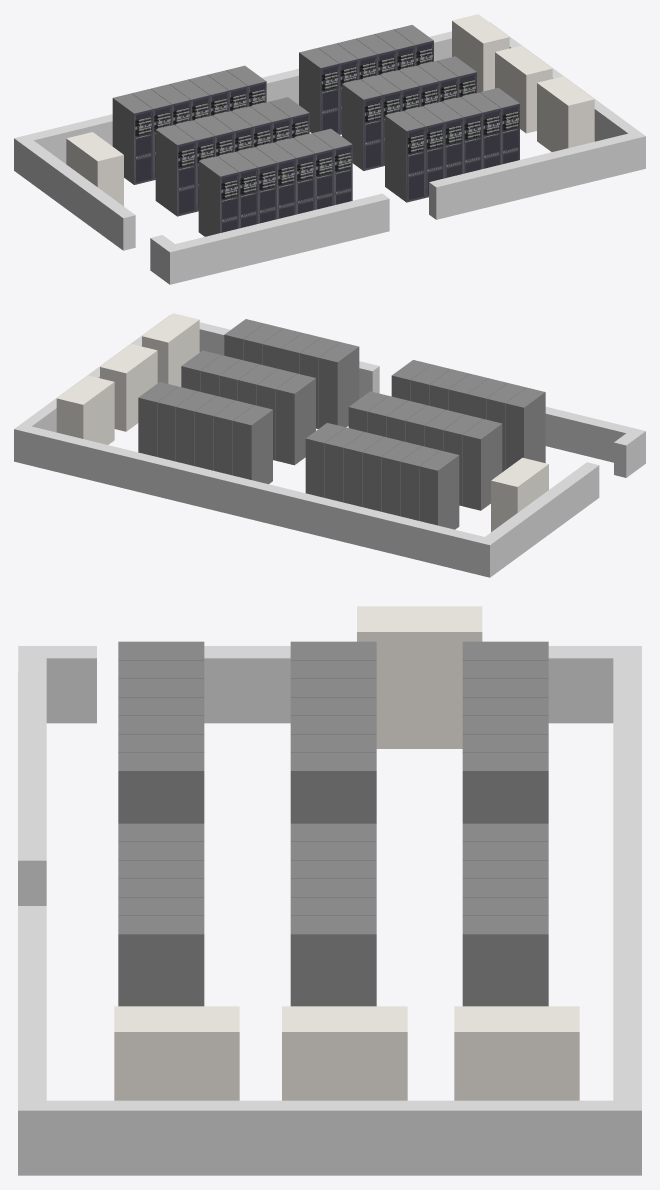
The model's file is 机房东6.gltf.
3 renders of one model, top to bottom at view 1: azimuth 30°, elevation 25°; view 2: azimuth 150°, elevation 25°; view 3: azimuth 270°, elevation 25°, orthographic. The views are drawn at different scales.
Parts seen in each view (by area): view 1: 墙, 空调2, 空调3, 空调4, 空调1, 机柜.25-机柜1, 机柜.7-机柜1, 机柜-机柜1, 机柜.18-机柜1, 机柜.38-机柜1, 机柜.31-机柜1, 机柜.7-PBR (+71 smaller); view 2: 墙, 空调4, 空调3, 机柜.18-机柜1, 机柜.25-机柜1, 机柜.7-机柜1, 机柜.38-机柜1, 机柜-机柜1, 机柜.31-机柜1, 空调2, 空调1, 机柜.26-机柜1 (+32 smaller); view 3: 墙, 空调1, 空调2, 空调3, 空调4, 机柜.12-机柜1, 机柜.13-机柜1, 机柜.26-机柜1, 机柜.6-机柜1, 机柜.19-机柜1, 机柜.32-机柜1, 机柜-机柜1 (+32 smaller).
Boxes of the visible parts, x1,y1,x2,y2 form: 墙: (14,22,645,284); 空调2: (537,76,594,151); 空调3: (495,45,552,133); 空调4: (452,14,509,92); 空调1: (66,132,123,206); 机柜.25-机柜1: (155,125,195,216); 机柜.7-机柜1: (385,111,424,202); 机柜-机柜1: (198,156,238,236); 机柜.18-机柜1: (342,79,381,170); 机柜.38-机柜1: (112,93,152,184); 机柜.31-机柜1: (299,48,338,132); 机柜.7-PBR: (406,126,425,202); 墙: (14,315,645,577); 空调4: (56,375,114,444); 空调3: (100,344,157,431); 机柜.18-机柜1: (276,373,315,465); 机柜.25-机柜1: (462,419,502,510); 机柜.7-机柜1: (319,342,359,428); 机柜.38-机柜1: (419,450,459,529); 机柜-机柜1: (505,387,545,469); 机柜.31-机柜1: (233,405,272,484); 空调2: (142,313,199,386); 空调1: (491,457,548,531); 机柜.26-机柜1: (138,382,178,456); 墙: (18,646,641,1175); 空调1: (357,606,482,748); 空调2: (114,1006,239,1100); 空调3: (282,1006,407,1100); 空调4: (454,1006,579,1100); 机柜.12-机柜1: (118,916,204,1006); 机柜.13-机柜1: (290,916,376,1006); 机柜.26-机柜1: (462,916,548,1006); 机柜.6-机柜1: (118,752,204,823); 机柜.19-机柜1: (290,752,376,823); 机柜.32-机柜1: (462,752,548,823); 机柜-机柜1: (118,641,204,660).
Size of the model in its own units: 15.33 by 2.2 by 8.7.
4 materials, 1 textured.
